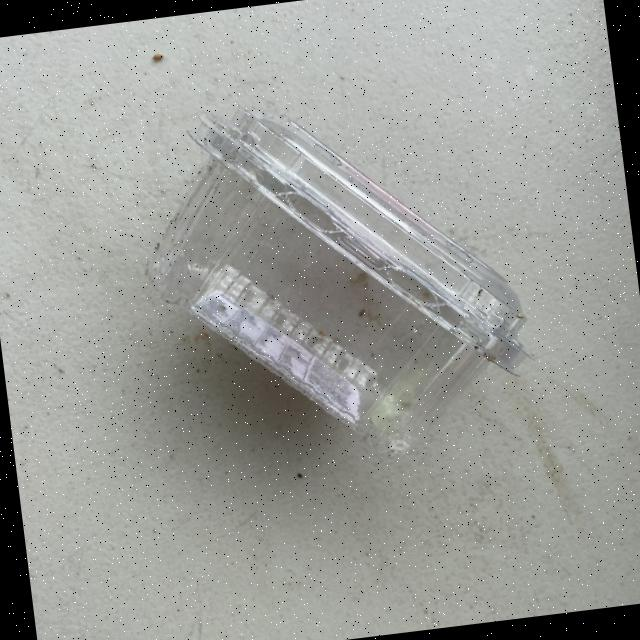plastic: (127, 72, 542, 482)
